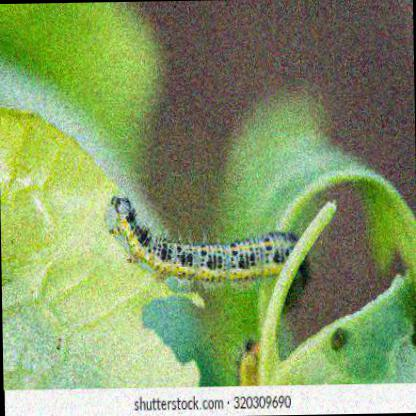pieris: (110, 182, 297, 279)
